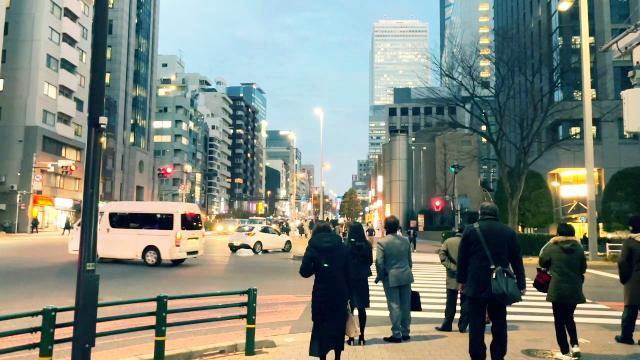berdiri: (455, 204, 529, 360), (302, 220, 358, 360), (372, 212, 416, 342), (430, 221, 472, 336)
berjalan: (534, 219, 590, 360)
